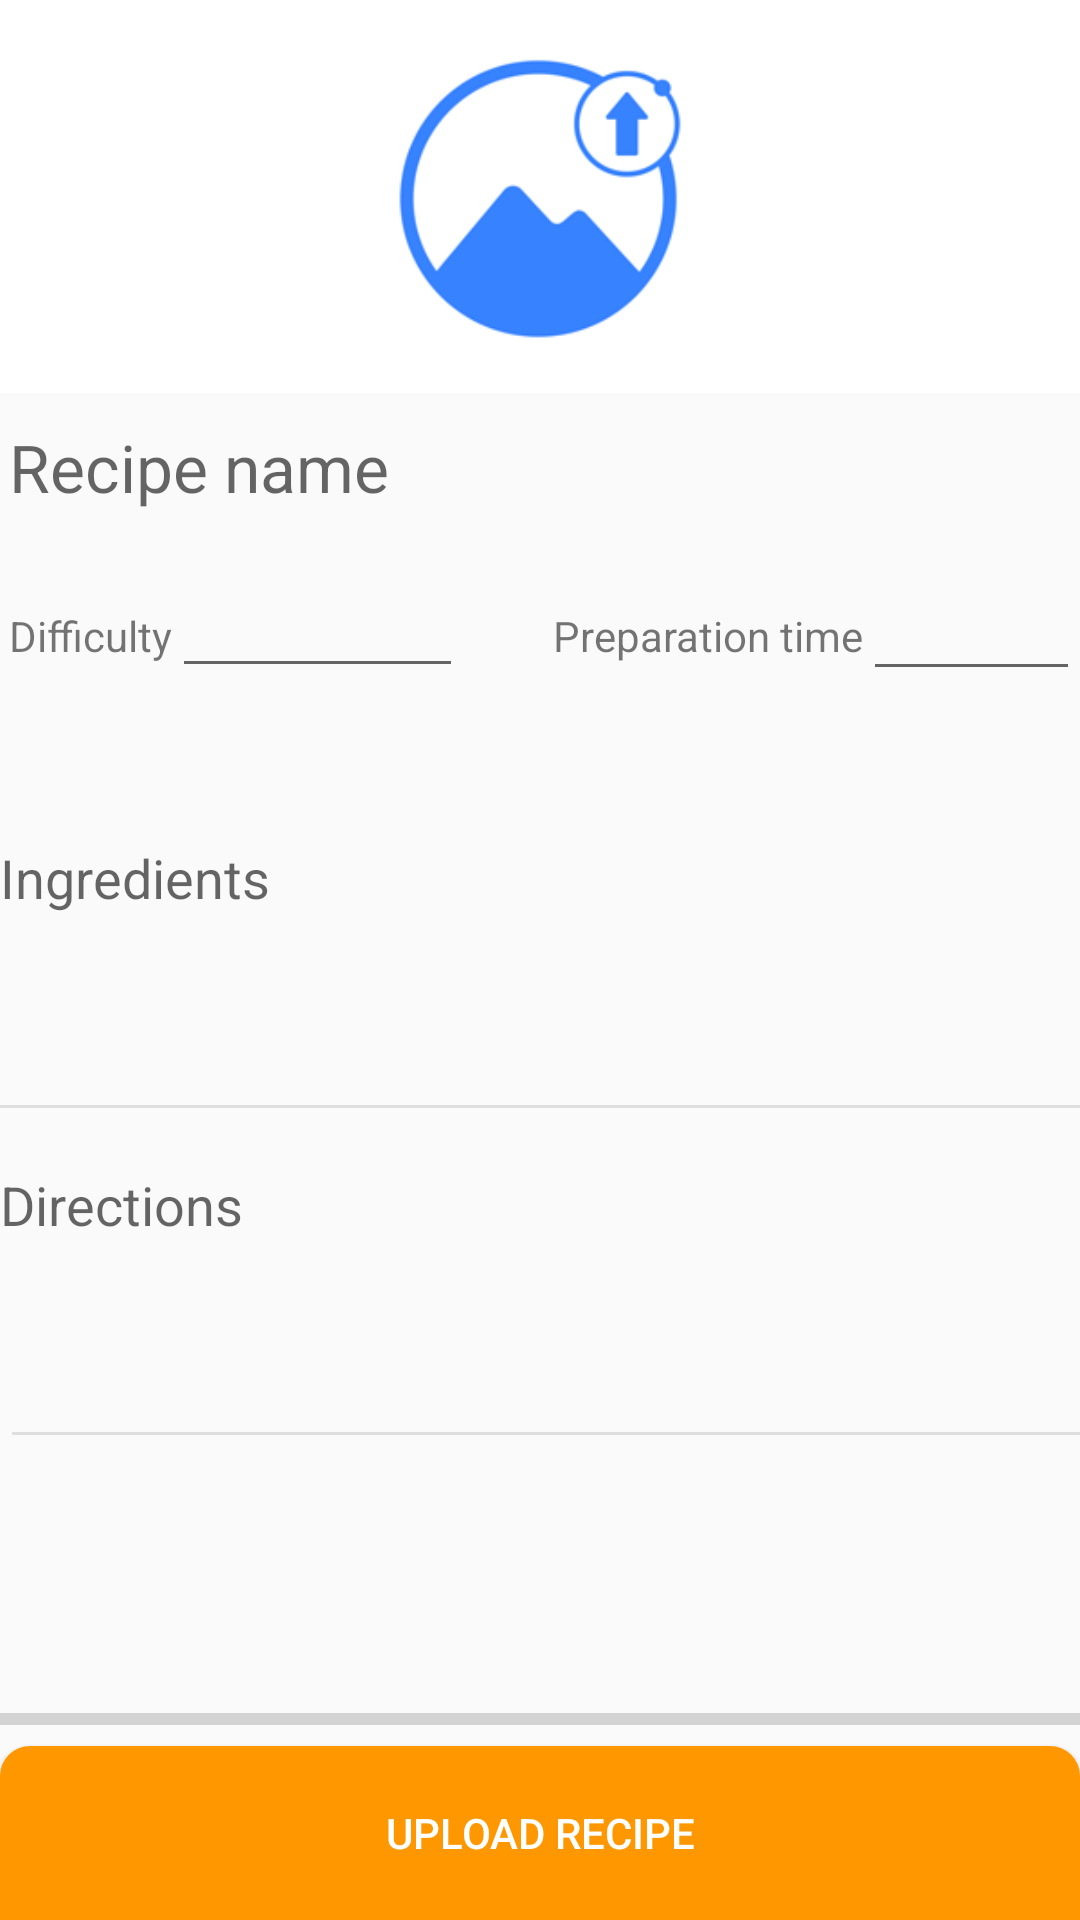

Named icons in this screenshot (1080x1920) and their centers, [x,y]:
upload: [540,199]
